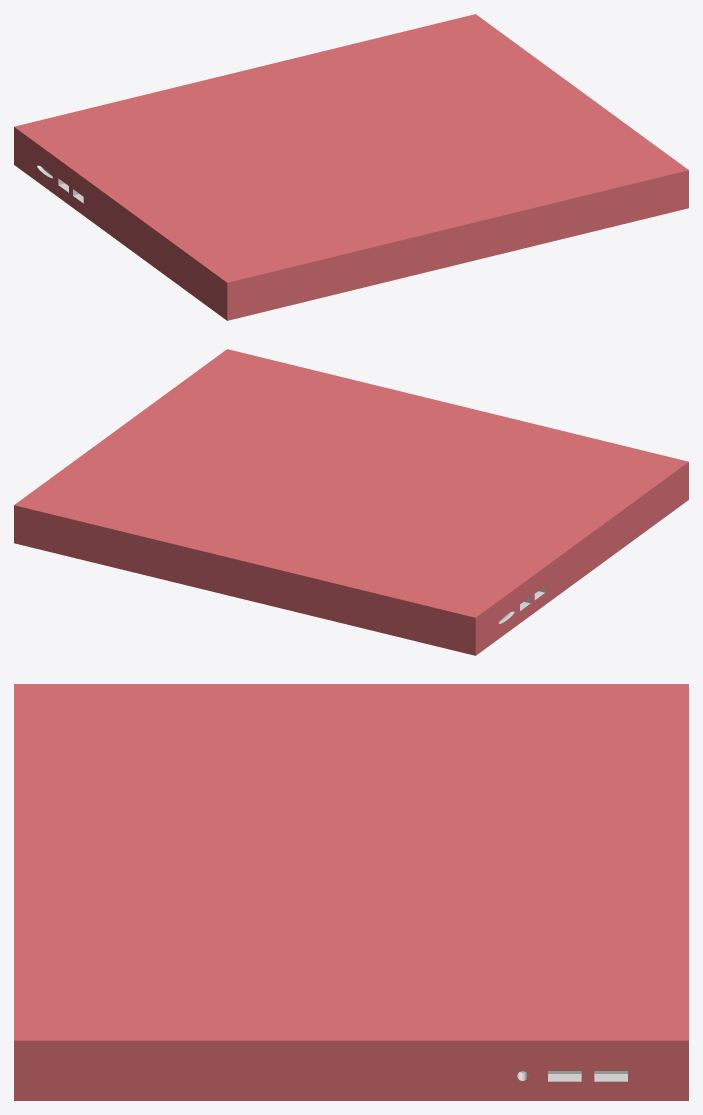
File: laptop4.glb
The picture shows the model from 3 angles, top to bottom: view 1: azimuth 30°, elevation 25°; view 2: azimuth 150°, elevation 25°; view 3: azimuth 270°, elevation 25°; orthographic projection. The views are drawn at different scales.
Visible parts, largest first — view 1: Ttop, bottom; view 2: Ttop, bottom; view 3: Ttop, bottom.
Boxes of the visible parts, <box> form: Ttop: <box>14,14,688,292</box>; bottom: <box>14,136,688,320</box>; Ttop: <box>14,349,688,626</box>; bottom: <box>14,471,688,655</box>; Ttop: <box>14,684,688,1055</box>; bottom: <box>14,1055,688,1100</box>.
Bounding box in the file's own units: 0.5 × 0.0394 × 0.4.
